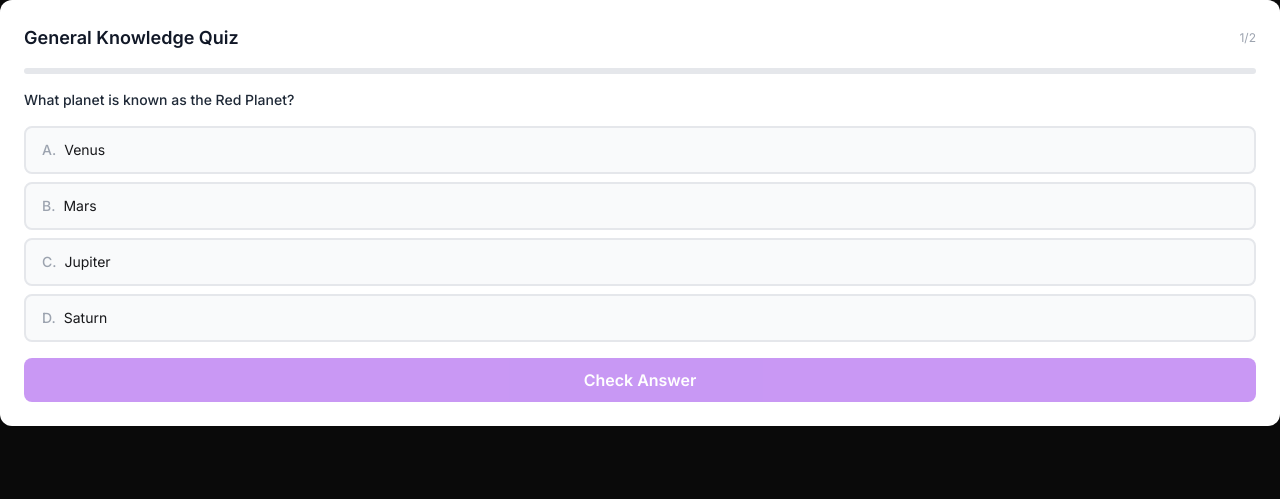
Test: Quiz › highlights selected answer
Click the radio button "Mars": (80, 206) [24,182,1256,230]
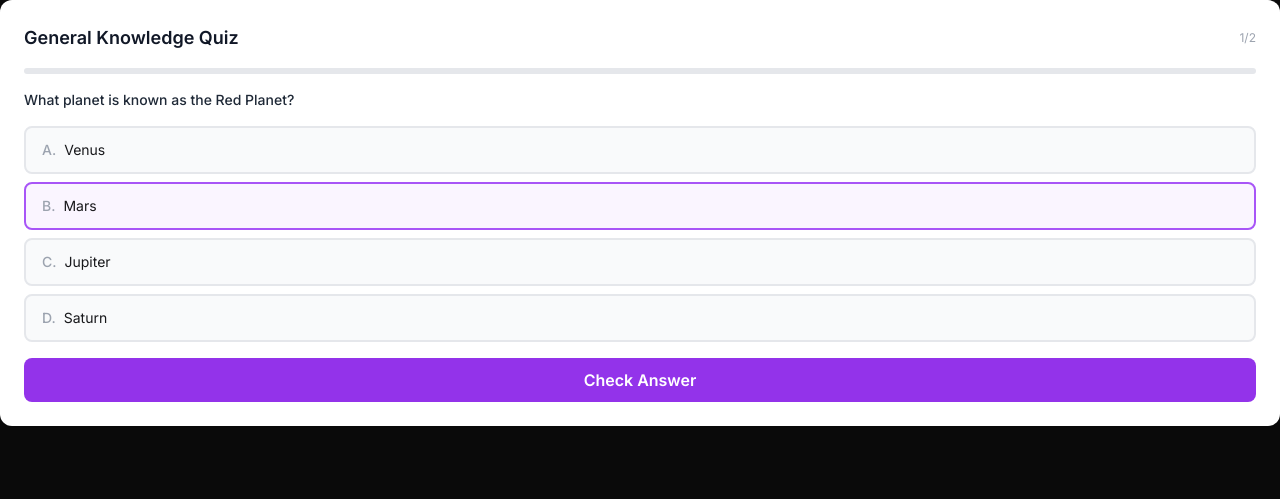
Click the button "Check Answer": (640, 380) [24,358,1256,402]
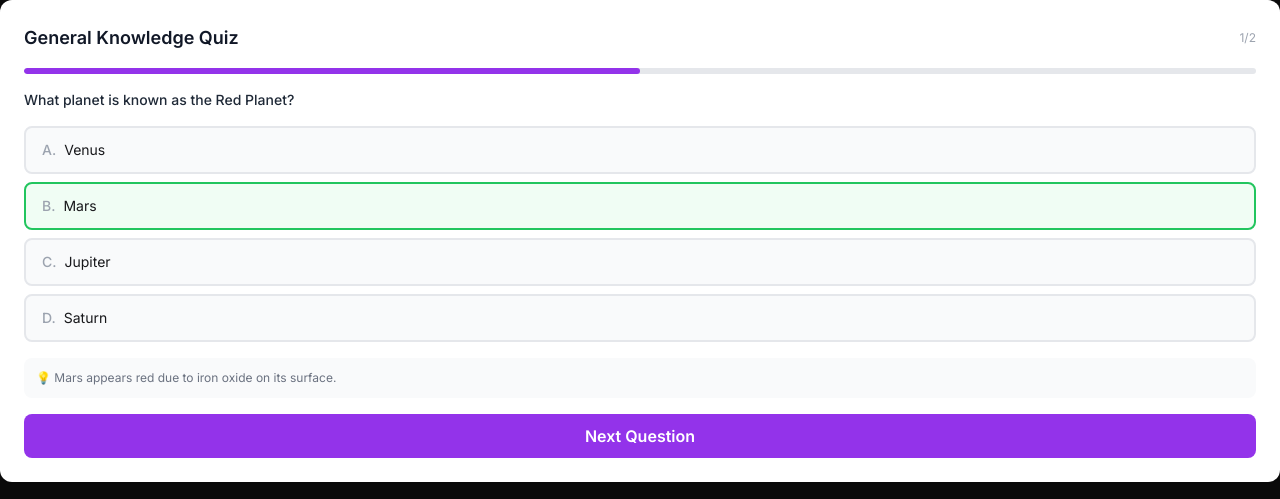
Expected: the text "💡 Mars appears red due to iron oxide on its surface." is shown, [24,358,1256,398]
